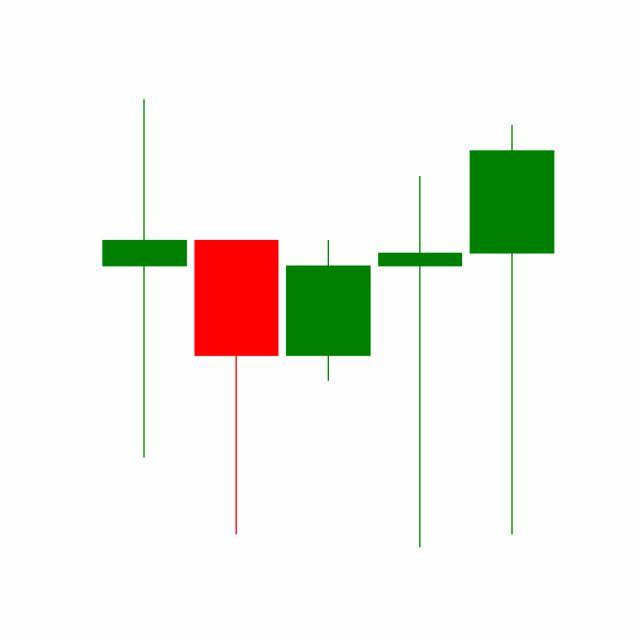Spinning Top: (374, 173, 468, 553)
